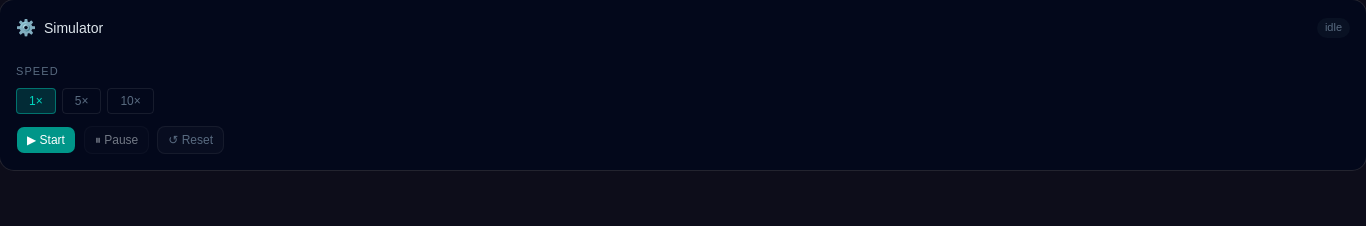
SimulatorControls › shows error message on API failure
The width and height of the screenshot is (1366, 226).
What coordinates should you click on to do the following:
click the button with test id "sim-start"
I would click on:
 (46, 140)
Its box is x1=16 y1=126 x2=76 y2=154.
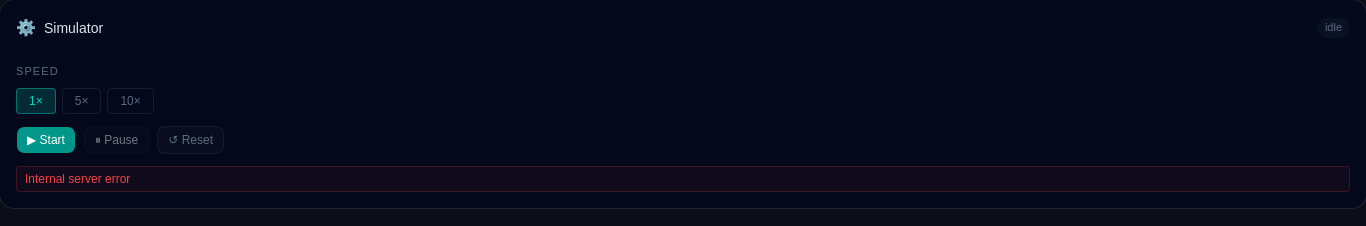
Result: the text "Internal server error" is shown at x1=16 y1=166 x2=1350 y2=192
